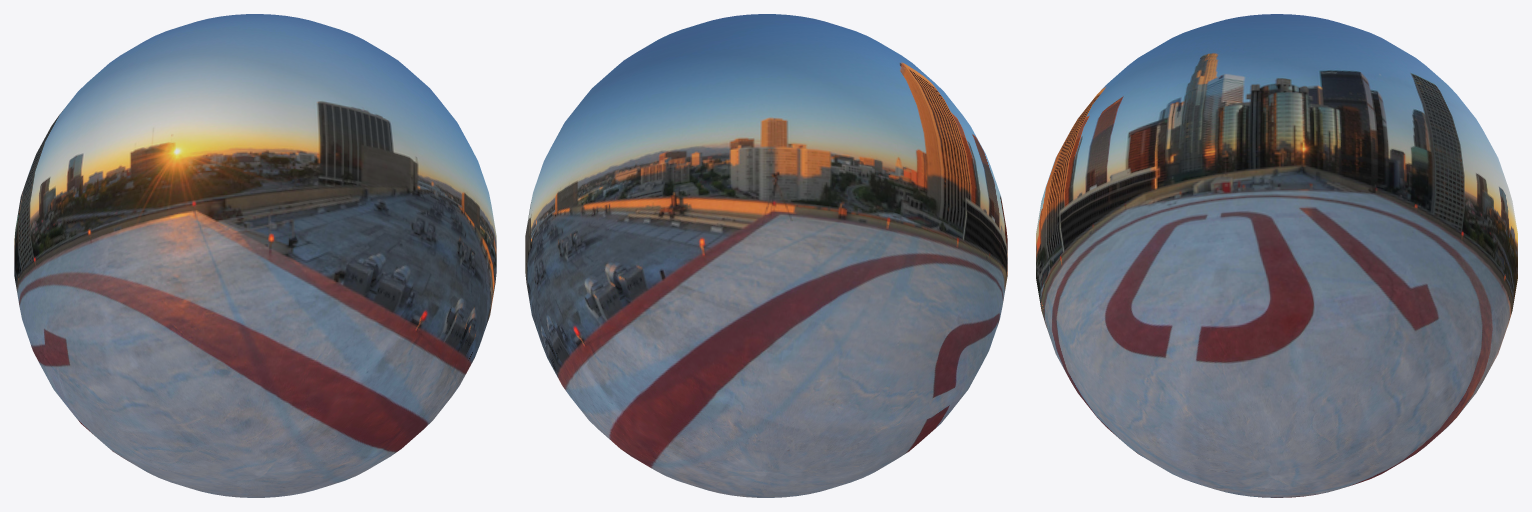
The model's file is sky_pano_-_l.a._helipad.glb.
3 views of the same model, side by side, from view 1: azimuth 30°, elevation 25°; view 2: azimuth 150°, elevation 25°; view 3: azimuth 270°, elevation 25° (orthographic).
Visible parts, largest first — view 1: PanoSphere; view 2: PanoSphere; view 3: PanoSphere.
Boxes of the visible parts, x1,y1,x2,y2 form: PanoSphere: (14, 14, 496, 497); PanoSphere: (525, 14, 1007, 497); PanoSphere: (1036, 14, 1517, 497).
Bounding box in the file's own units: 9.97 × 10 × 9.95.
1 material, 1 textured.
